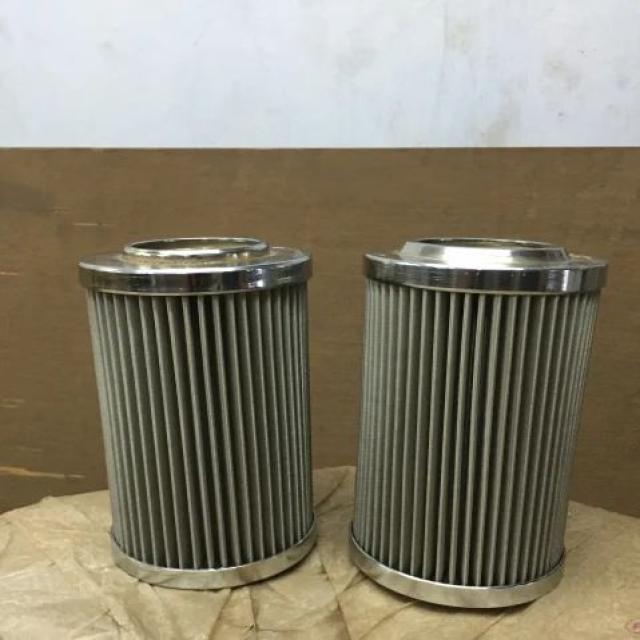oil_filter: (356, 228, 616, 608), (78, 225, 317, 587)
